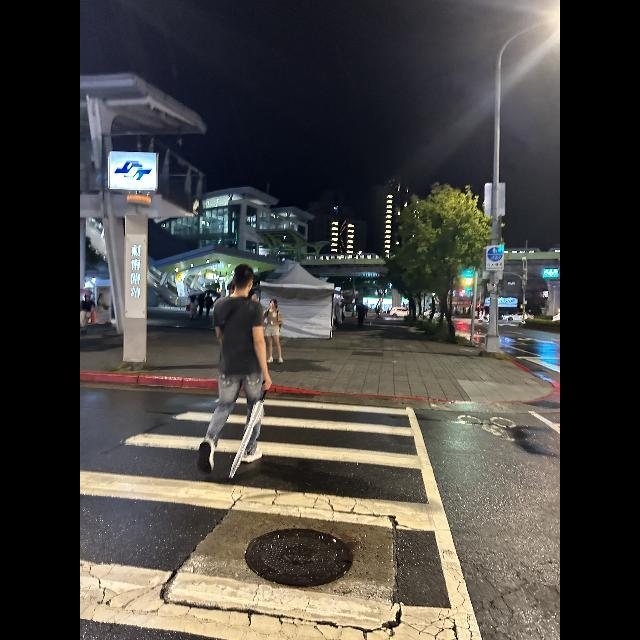sidewalk: (80, 385, 474, 640)
